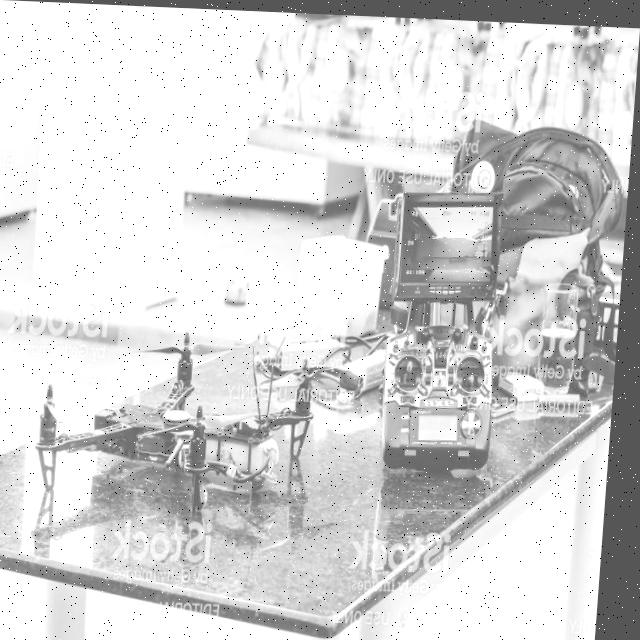drone: (18, 325, 337, 533)
